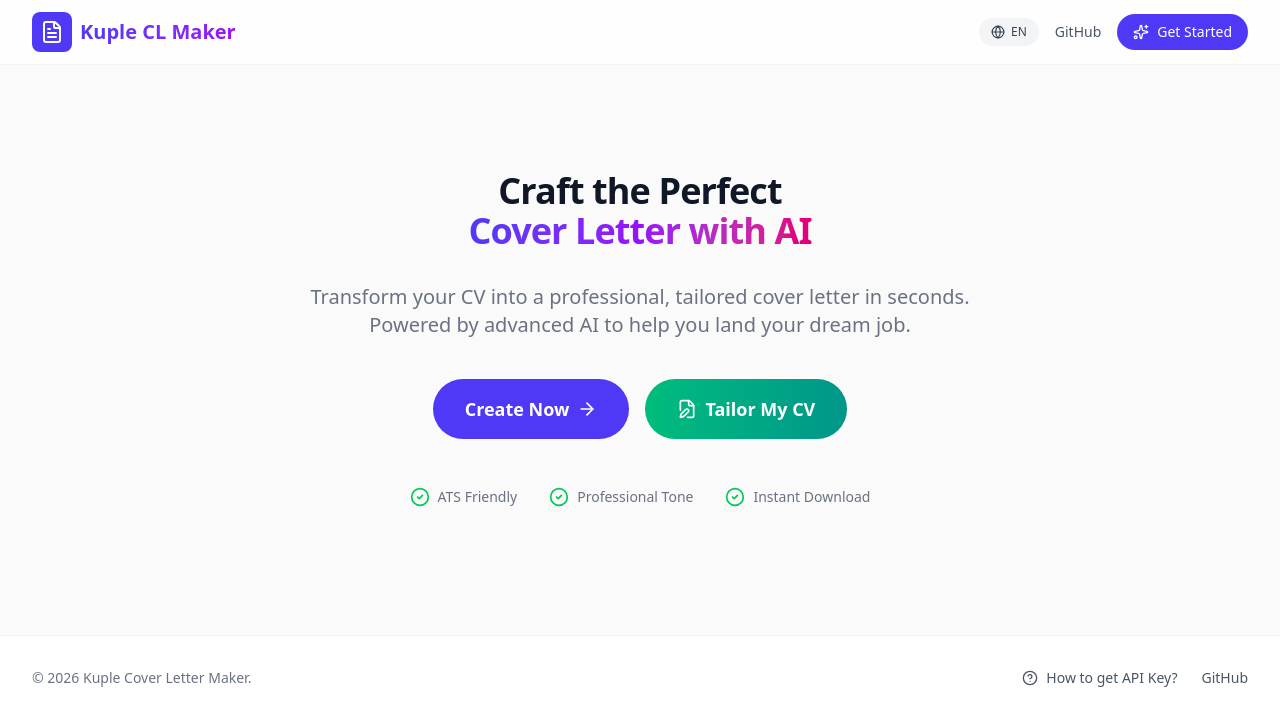
Test: App - Integration Tests › Navigation flow › should navigate back from Guide to Hero
(page scrolled)
Go to Guide
Click the button "How to get API Key?": click(1100, 678) [1022,668,1178,688]
(page scrolled)
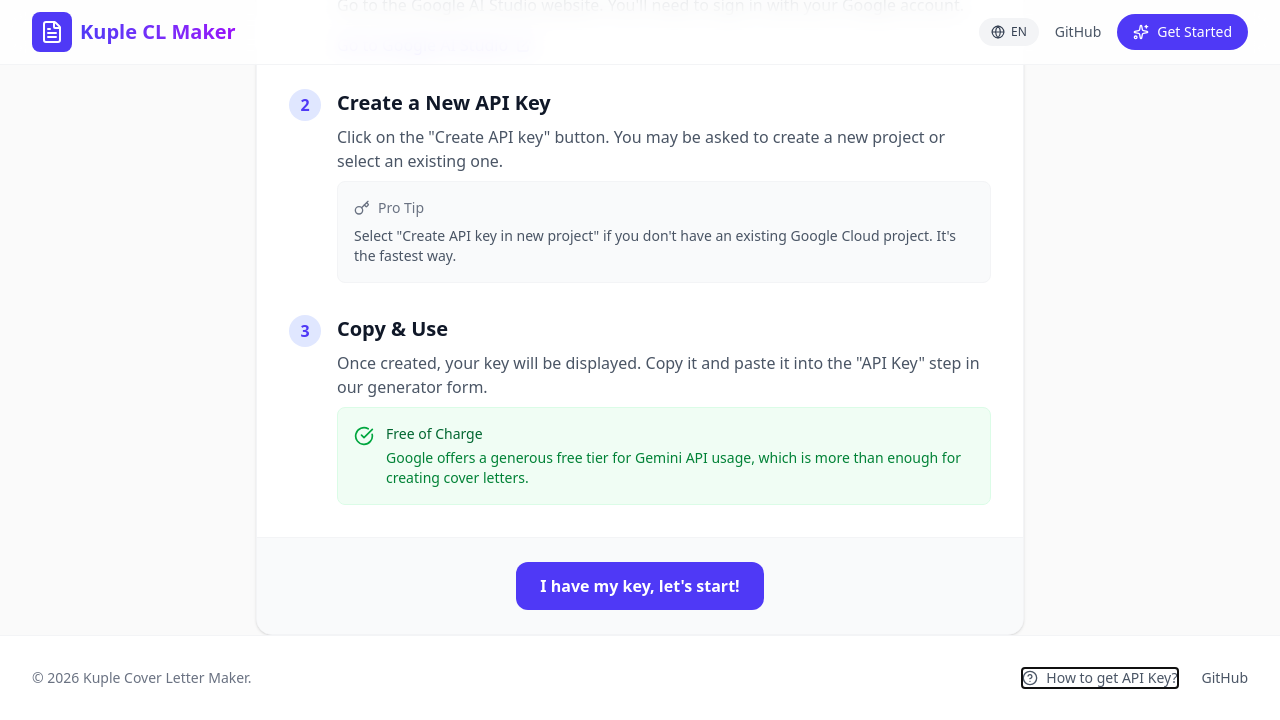
Click the CTA to go back
Click the button "I have my key, let's start!": click(640, 586) [516,562,764,610]
(page scrolled)
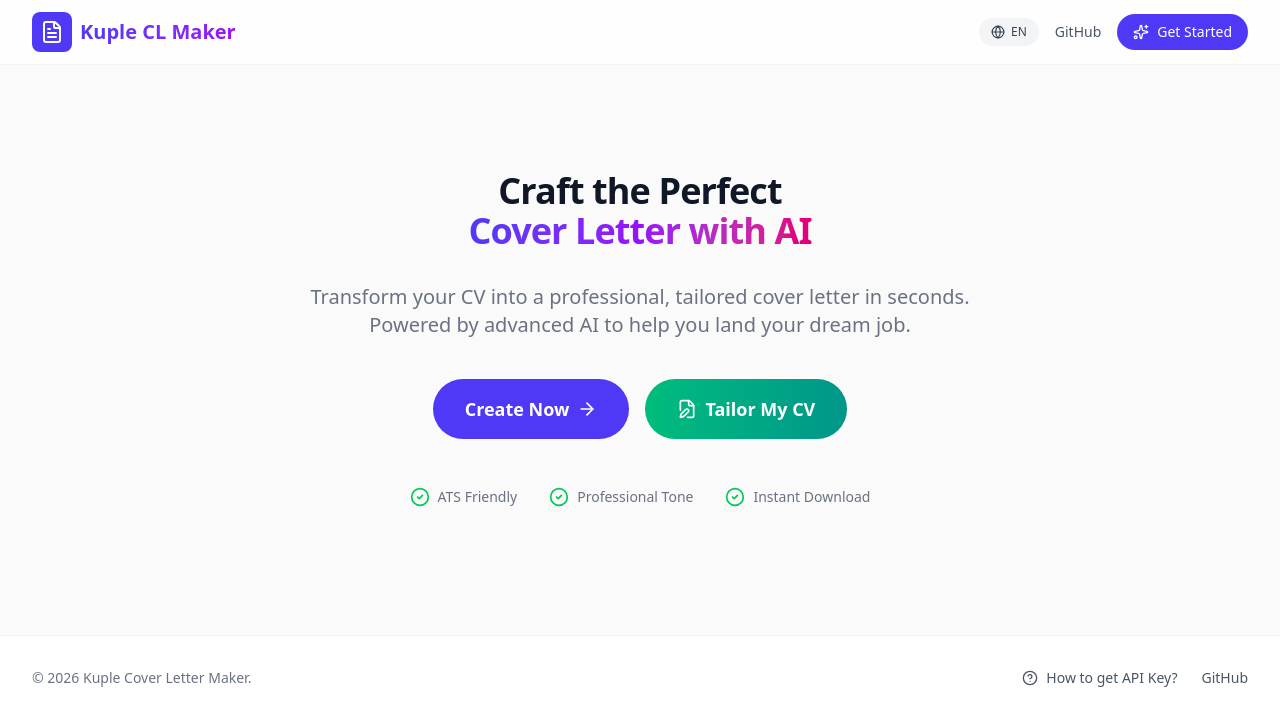
Check: the heading "Craft the Perfect Cover Letter with AI" is shown, box [468,166,812,255]
